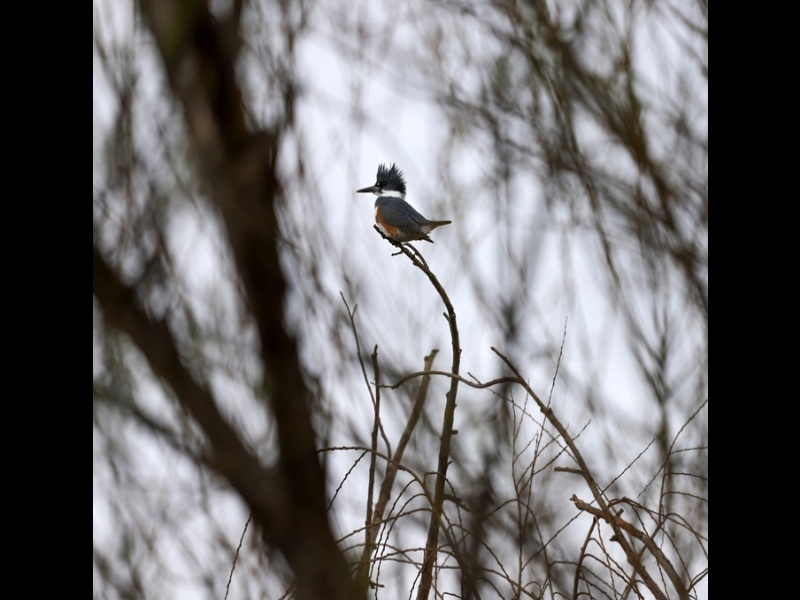kingfisher: (351, 160, 453, 262)
